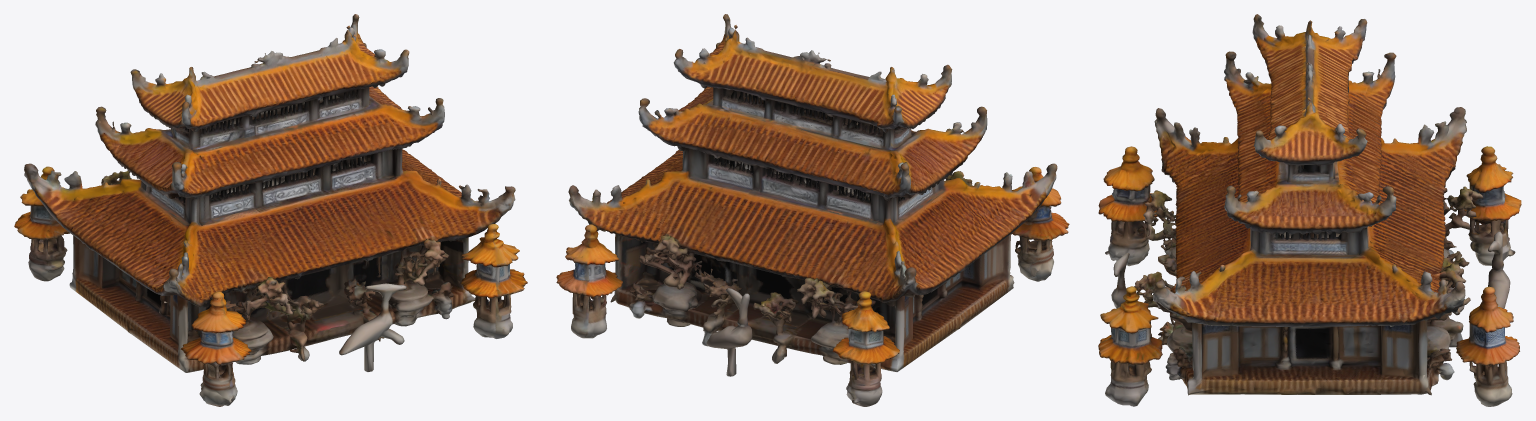
File: chuahang.glb
3 views of the same model, side by side, from view 1: azimuth 30°, elevation 25°; view 2: azimuth 150°, elevation 25°; view 3: azimuth 270°, elevation 25° (orthographic). The views are drawn at different scales.
Size of the model in its own units: 1.99 by 1.44 by 2.
Materials: 1 (1 with a texture image).
